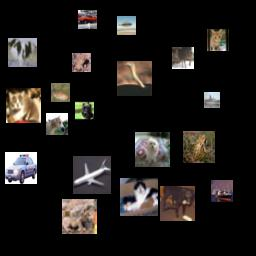airplane: (73, 156, 111, 194), (117, 16, 136, 35)
automobile: (5, 152, 37, 184), (78, 10, 97, 29)
bird: (117, 61, 152, 96)
cat: (120, 178, 158, 216), (6, 88, 41, 123), (207, 29, 229, 51)
deer: (172, 47, 194, 69), (51, 83, 70, 102)
dog: (135, 132, 170, 167), (160, 186, 195, 221), (8, 38, 37, 67), (75, 101, 94, 120)
frog: (62, 199, 97, 234), (183, 131, 215, 163), (72, 53, 91, 72)
ship: (211, 180, 233, 202), (204, 92, 220, 108)
